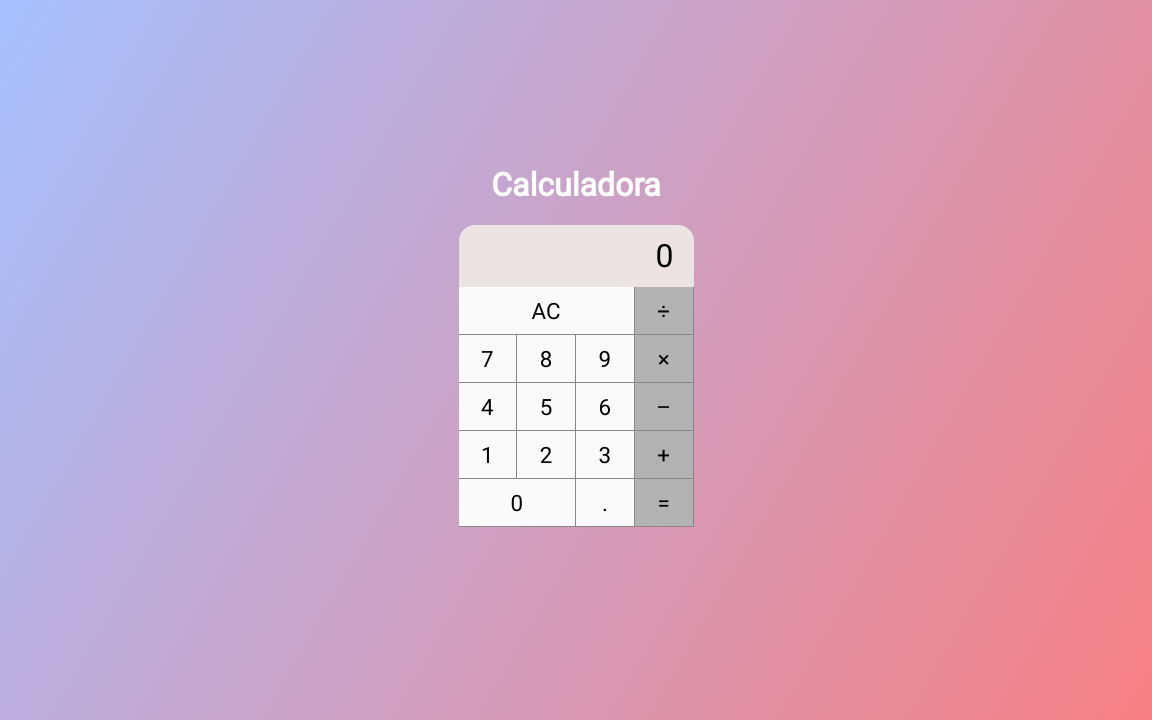
Teste de Calculadora › Digitação de múltiplos dígitos
This screenshot has width=1152, height=720.
Click the button "1": [489, 455] box [459,431,518,479]
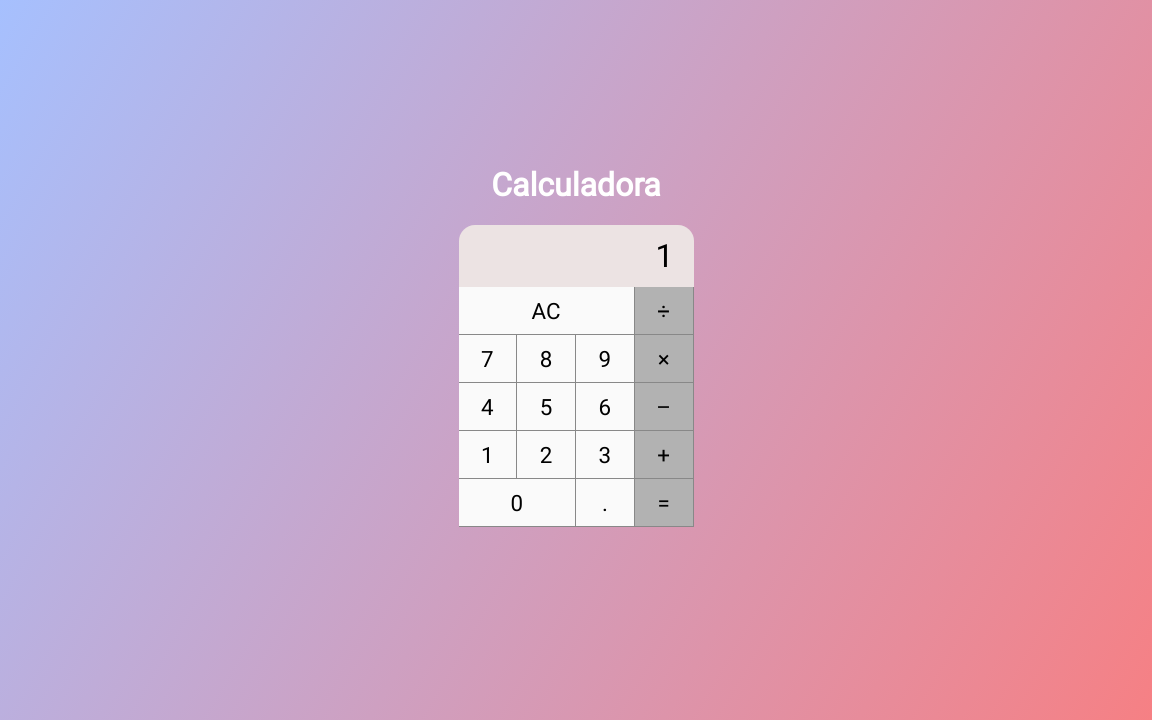
Click the button "2": [547, 455] box [517,431,576,479]
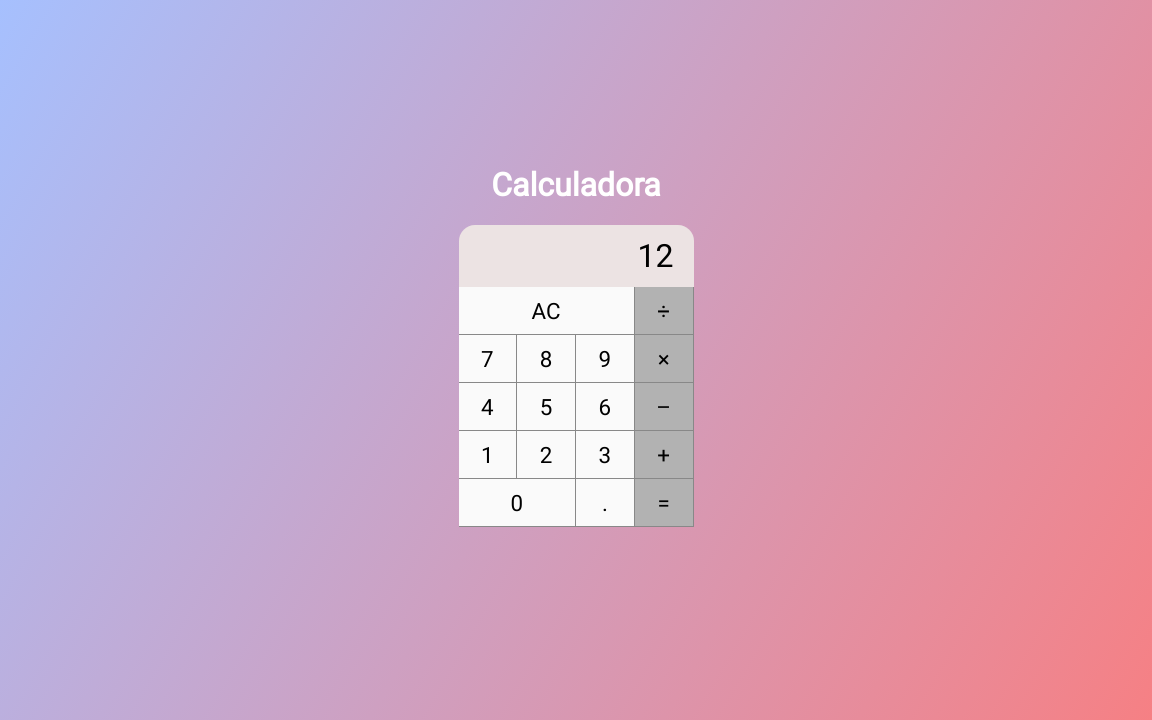
Click the button "3": [606, 455] box [576,431,635,479]
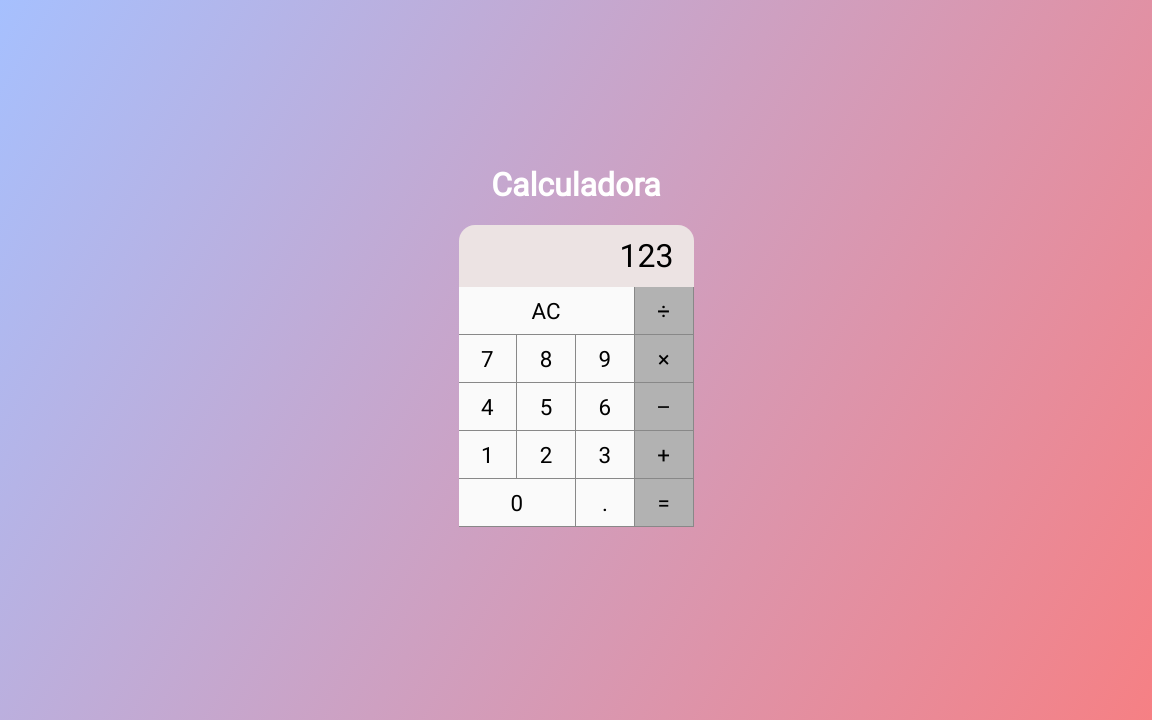
Expected: the text with class "display" reads "123", [459,225,694,287]
